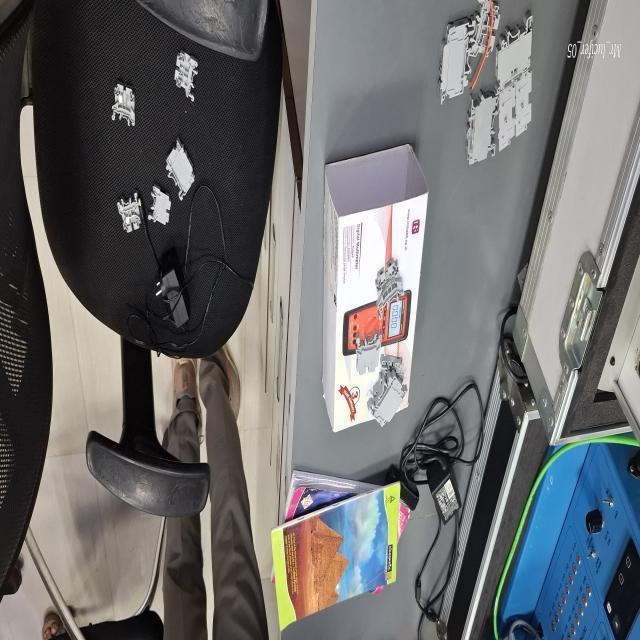Inverted: (352, 326, 384, 378), (146, 184, 172, 226)
Pass: (372, 256, 406, 321), (115, 190, 141, 233)
Reject: (172, 50, 201, 104), (111, 82, 138, 130)
